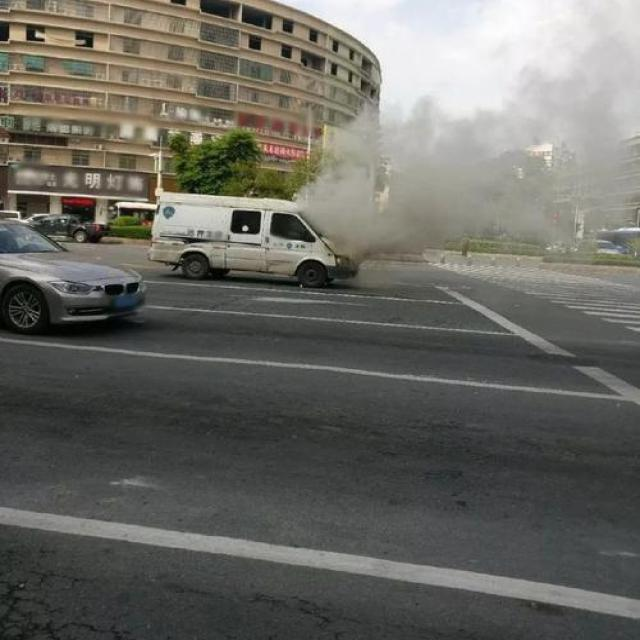Smoke: (302, 41, 638, 260)
